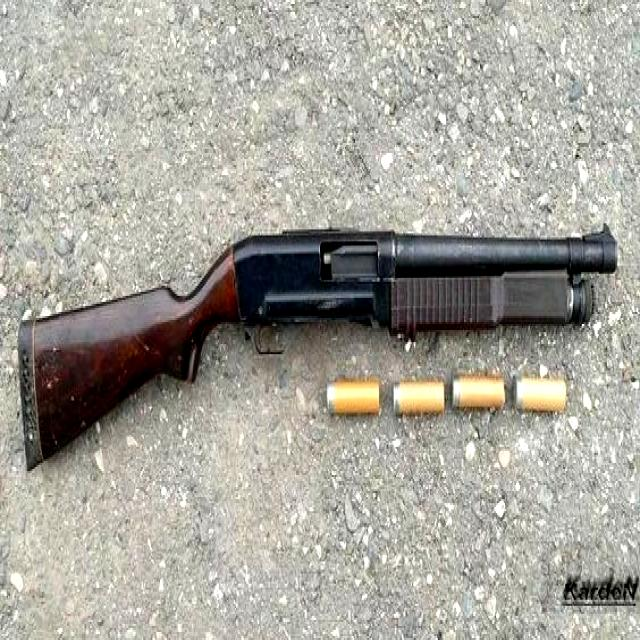shotgun: (16, 220, 627, 495)
